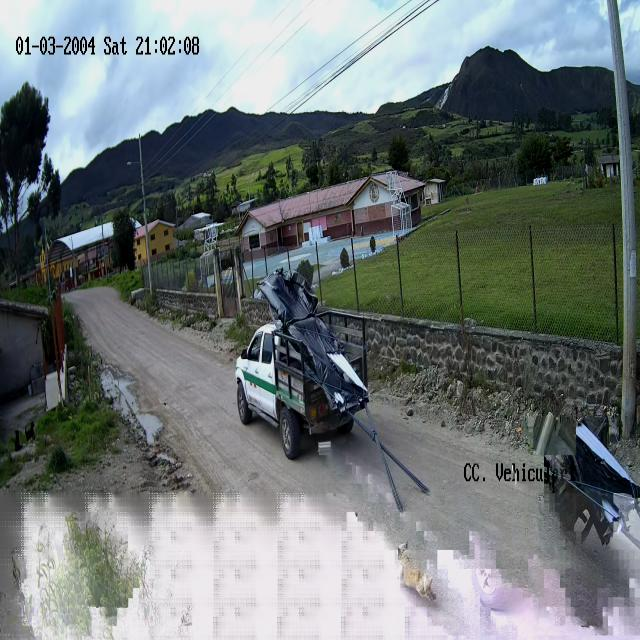CMT: (235, 321, 368, 461)
